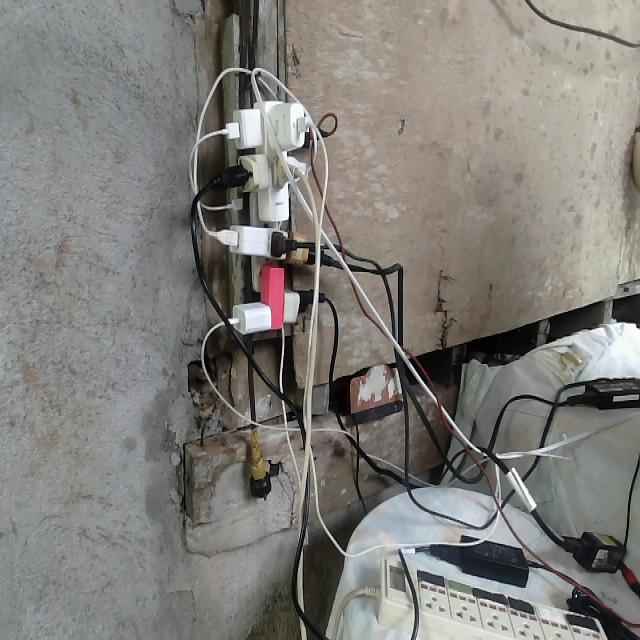-: (209, 96, 339, 332)
